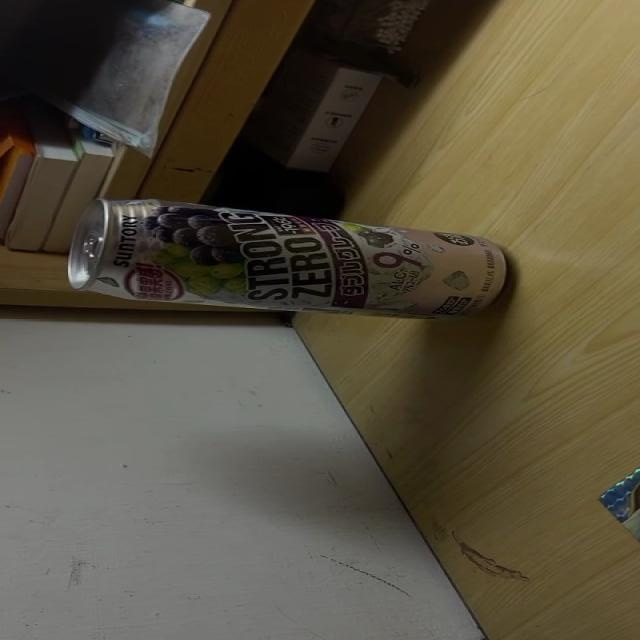Liquor: (68, 198, 506, 321)
